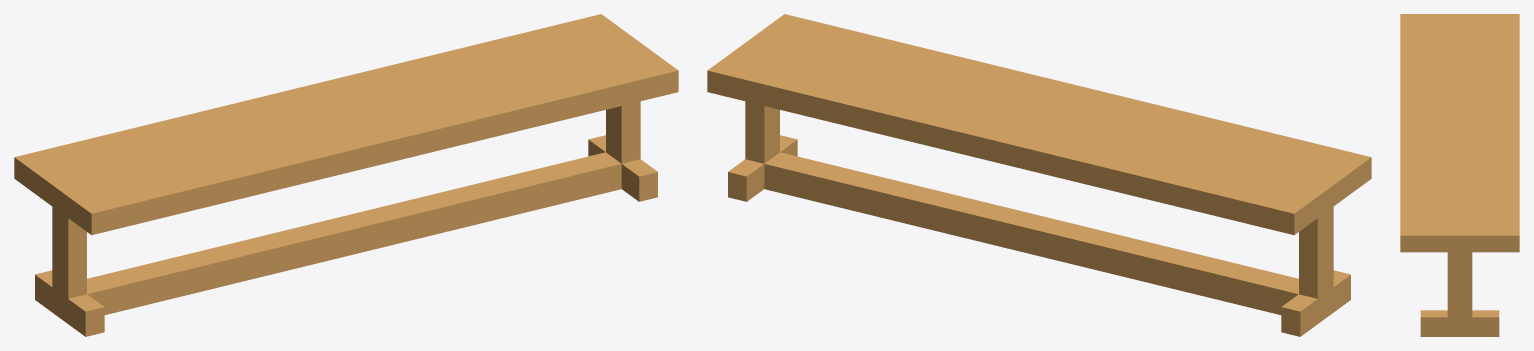
File: Long_Chair.fbx
The picture shows the model from 3 angles, left to right: view 1: azimuth 30°, elevation 25°; view 2: azimuth 150°, elevation 25°; view 3: azimuth 270°, elevation 25°; orthographic projection. The views are drawn at different scales.
Visible parts, largest first — view 1: Long_Chair; view 2: Long_Chair; view 3: Long_Chair.
Boxes of the visible parts, x1=… form: Long_Chair: x1=14, y1=14, x2=678, y2=336; Long_Chair: x1=707, y1=14, x2=1371, y2=336; Long_Chair: x1=1400, y1=14, x2=1519, y2=336.
Bounding box in the file's own units: 160 × 35.1 × 36.52.
